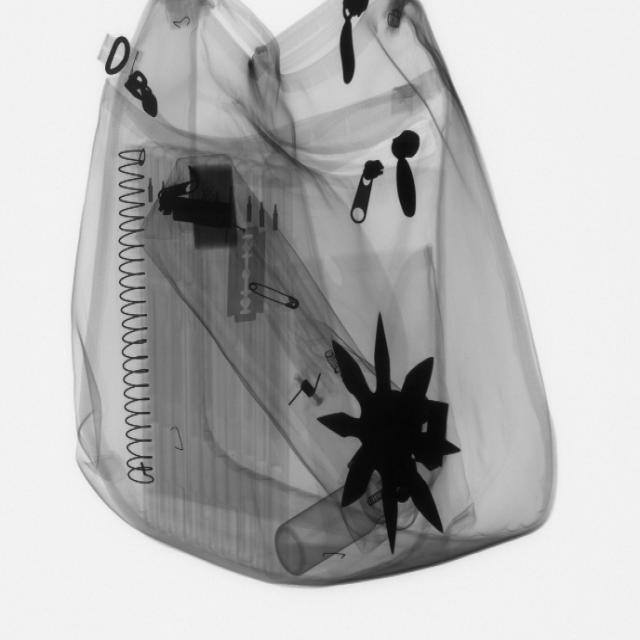BLADE: (220, 214, 274, 331)
SHURIKEN: (321, 316, 459, 554)
